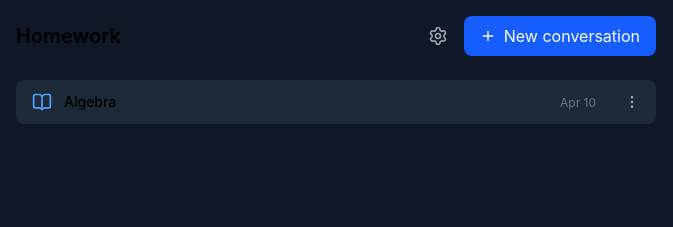
it: HomeworkPage – overflow menu › closes the menu on Escape
Expected: the text "Algebra" is shown, [64,92,116,112]
Click the button named "Conversation actions". click: [632, 102]
box: [616,86,648,118]
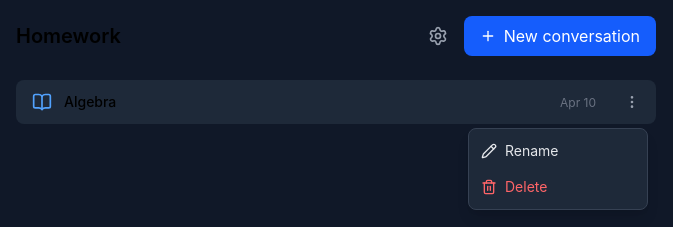
Expected: the menu is shown
Press Escape in the menu, box [468,128,648,210]
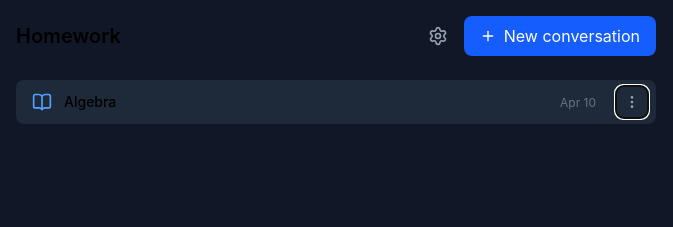
Expected: the menu is gone
